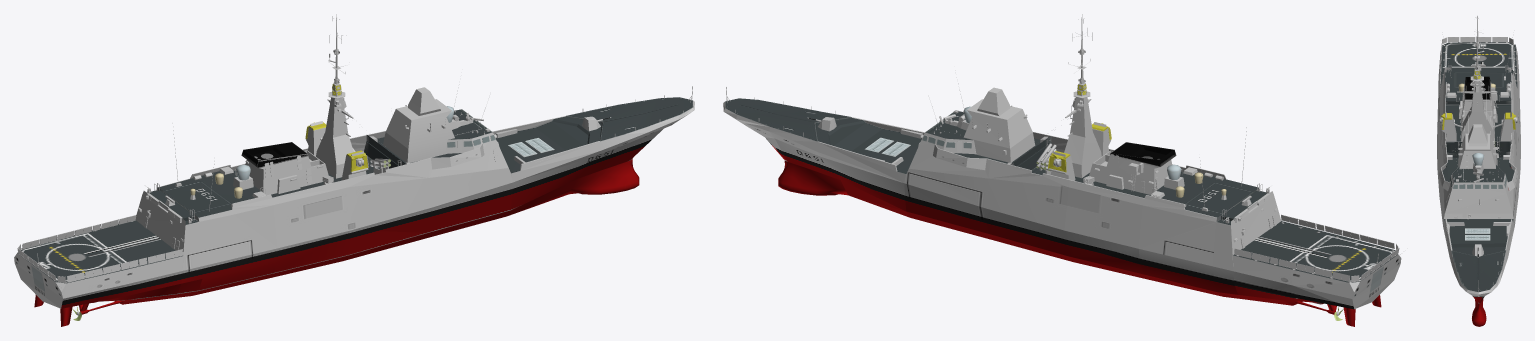
Rendered from light-ship.glb.
3 renders of one model, left to right at view 1: azimuth 30°, elevation 25°; view 2: azimuth 150°, elevation 25°; view 3: azimuth 270°, elevation 25°, orthographic. The views are drawn at different scales.
Visible parts, largest first — view 1: HLOD-9000_9000_0; view 2: HLOD-9000_9000_0; view 3: HLOD-9000_9000_0.
Boxes of the visible parts, x1,y1,x2,y2 form: HLOD-9000_9000_0: (14, 14, 694, 326); HLOD-9000_9000_0: (723, 14, 1401, 326); HLOD-9000_9000_0: (1437, 16, 1520, 326).
Size of the model in its own units: 3.44 by 1.23 by 0.4715.
Materials: 1 (1 with a texture image).
